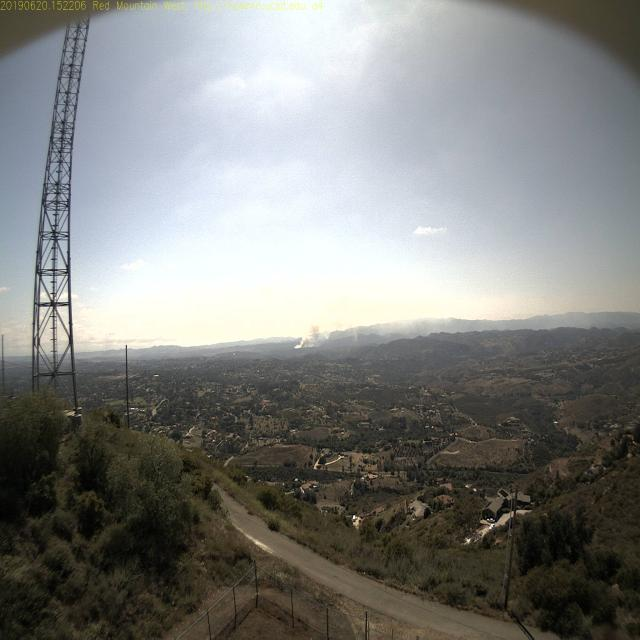smoke: (284, 311, 325, 356)
